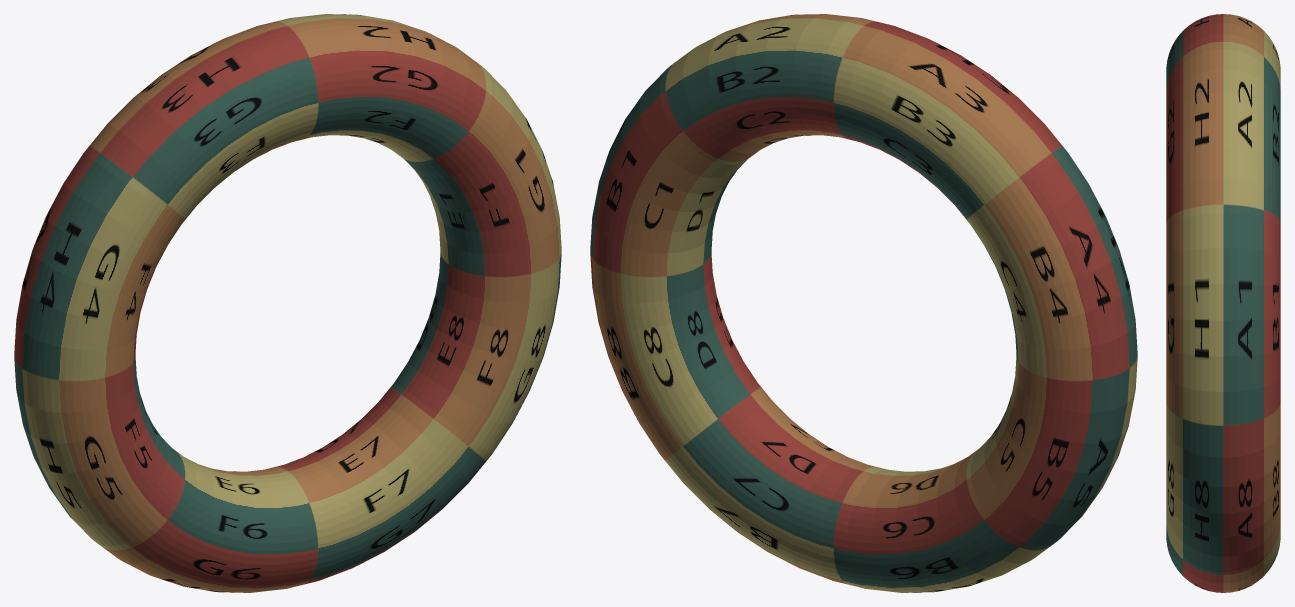
The model's file is texture_torus_R28_r19.glb.
3 views of the same model, side by side, from view 1: azimuth 30°, elevation 25°; view 2: azimuth 150°, elevation 25°; view 3: azimuth 270°, elevation 25° (orthographic). The views are drawn at different scales.
Parts seen in each view (by area): view 1: world; view 2: world; view 3: world.
Boxes of the visible parts, box(x1,y1,x2,y2) form: world: box(14, 14, 561, 592); world: box(590, 14, 1137, 592); world: box(1166, 14, 1280, 592).
Size of the model in its own units: 35.73 by 35.66 by 7.05.
Materials: 1 (1 with a texture image).
